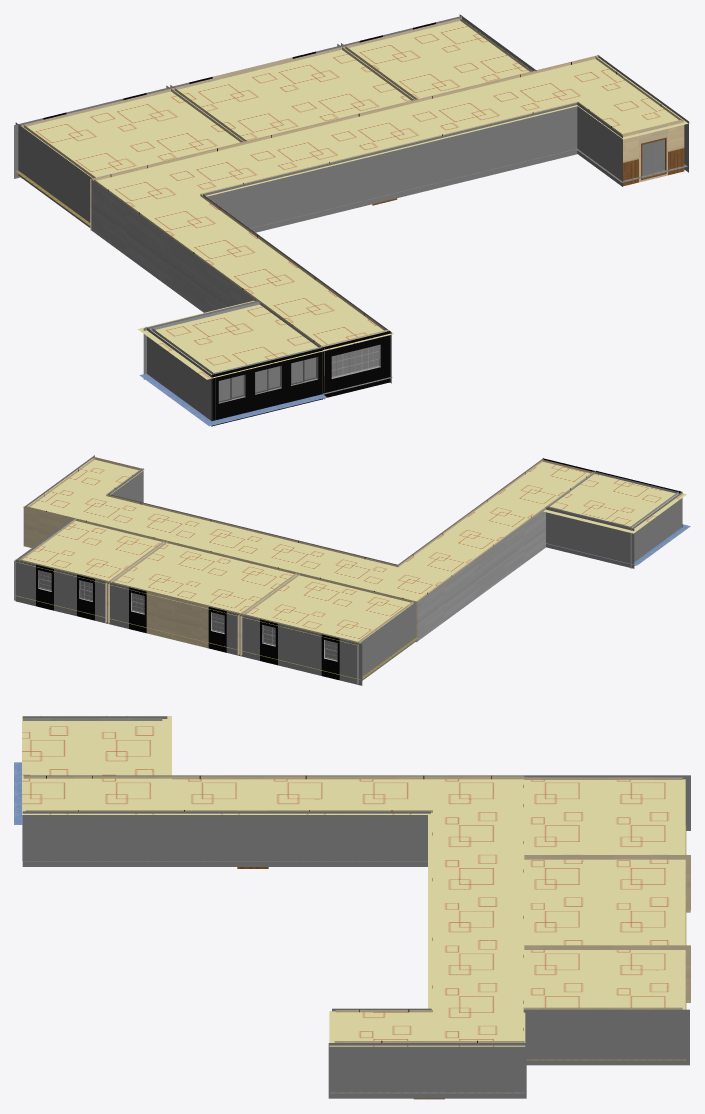
File: planimetria ufficio giornalistico.FBX
The picture shows the model from 3 angles, top to bottom: view 1: azimuth 30°, elevation 25°; view 2: azimuth 150°, elevation 25°; view 3: azimuth 270°, elevation 25°; orthographic projection. The views are drawn at different scales.
Parts seen in each view (by area): view 1: soffitto, Planimetria, pavimento, finestra ufficio012; view 2: soffitto, Planimetria, pavimento; view 3: soffitto, Planimetria, pavimento.
Part boxes in pixels (x1,y1,x2,y2): soffitto: (23,21,690,379); Planimetria: (14,14,688,426); pavimento: (15,148,687,426); finestra ufficio012: (331,345,379,377); soffitto: (16,458,686,645); Planimetria: (14,455,682,685); pavimento: (15,524,690,679); soffitto: (22,716,685,1046); Planimetria: (22,716,690,1099); pavimento: (14,762,686,1093).
Size of the model in its own units: 42.14 by 3.49 by 36.38.
